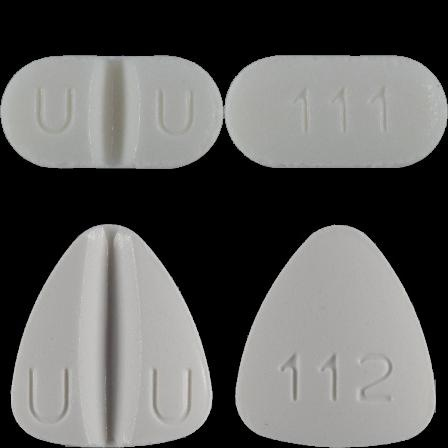29300-111: (0, 0, 224, 224)
